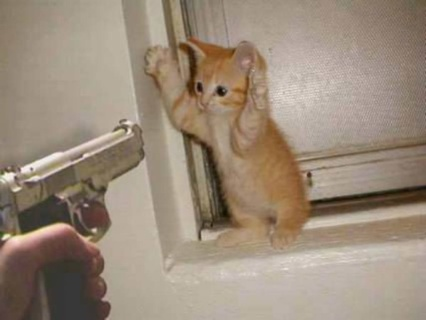Cat: (141, 37, 312, 250)
